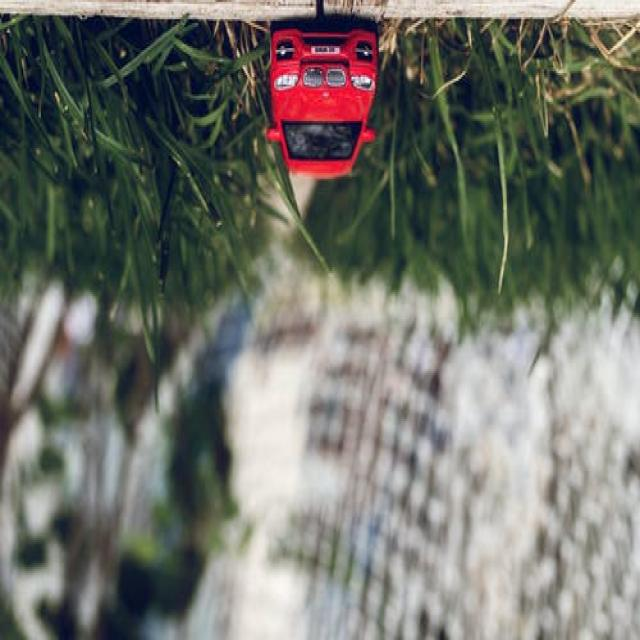Car: (265, 19, 379, 181)
